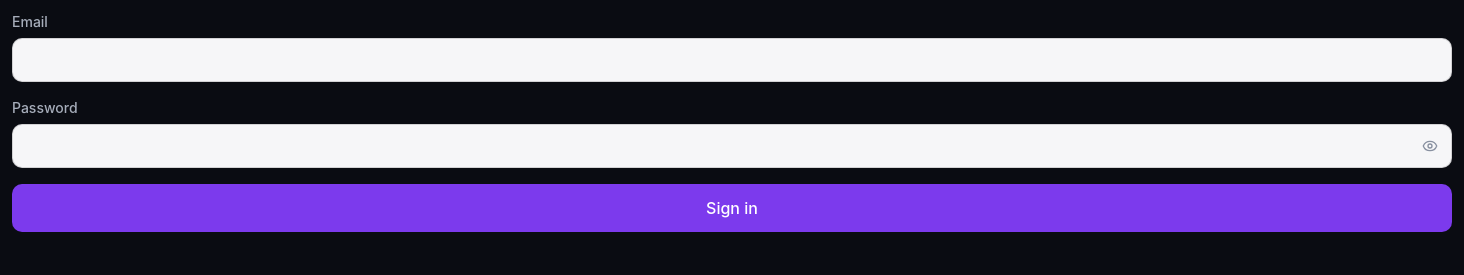
Scenario: SignInForm › shows a validation error for a malformed email
The width and height of the screenshot is (1464, 275).
Type "not-an-email" into the field labelled "Email" at (732, 60), box [12,38,1452,82]
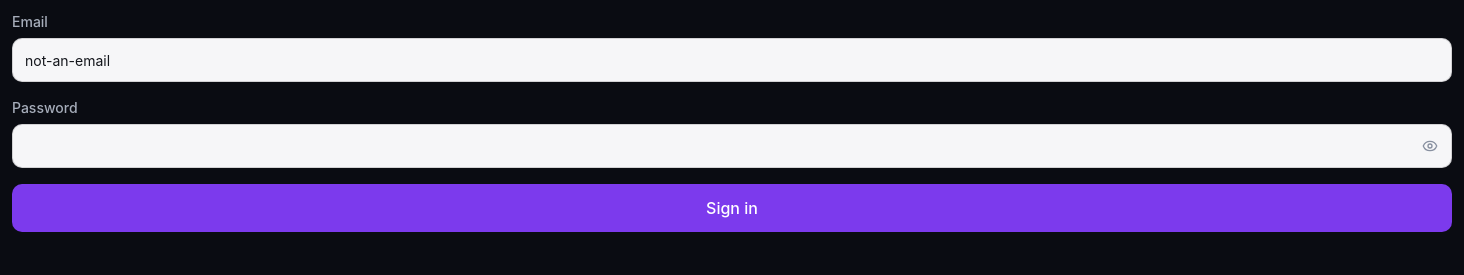
Type "secret123" into the password field labelled "Password" at (732, 146), box [12,124,1452,168]
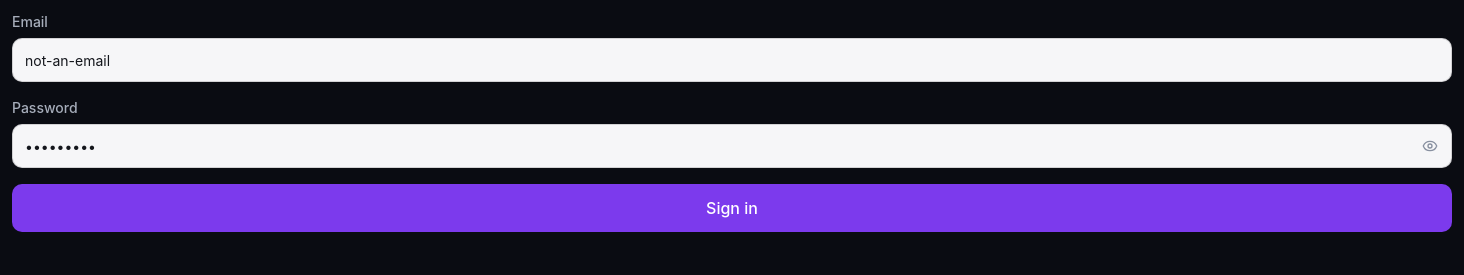
Click the button "Sign in" at (732, 208), box [12,184,1452,232]
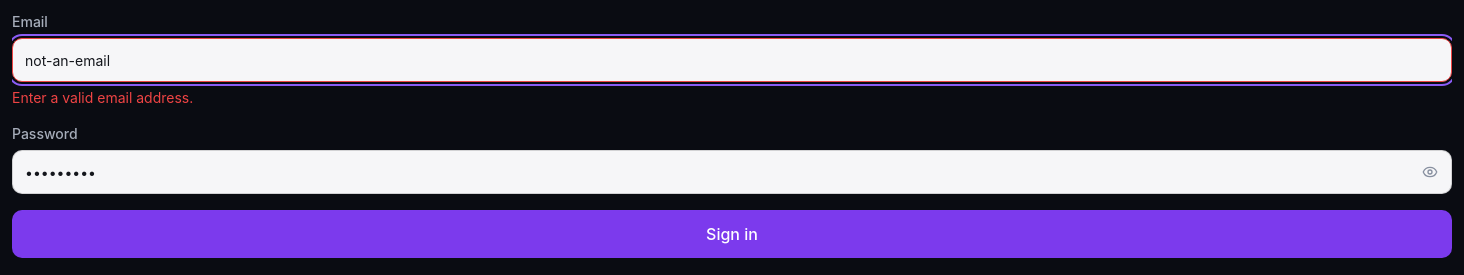
expect the text "Enter a valid email address." is shown: met, box [12,89,193,106]
